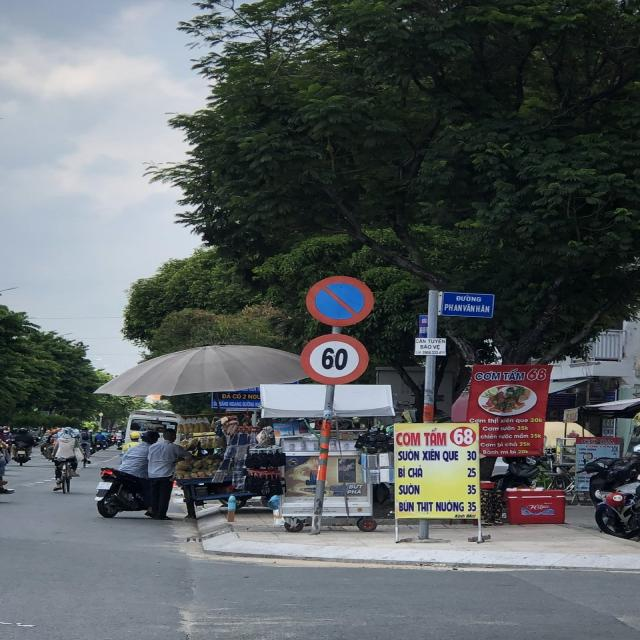Bien bao cam do xe: (302, 272, 379, 328)
Bien bao toc do toi da cho phep: (296, 332, 376, 387)
